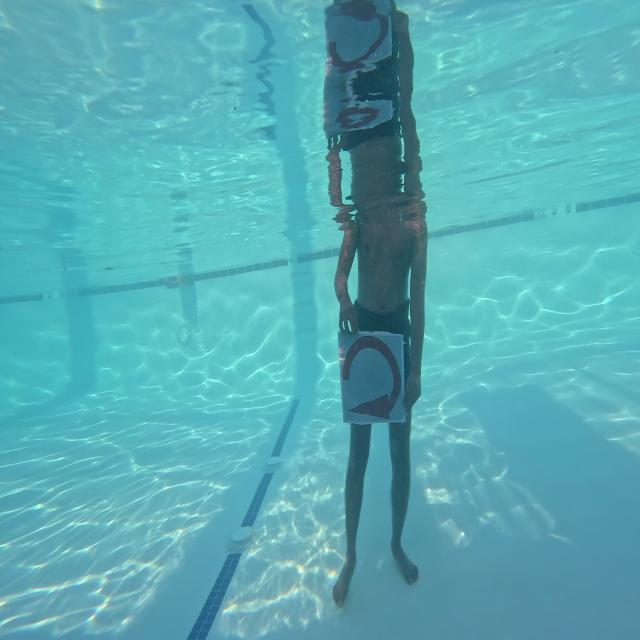red_side: (340, 332, 410, 432)
